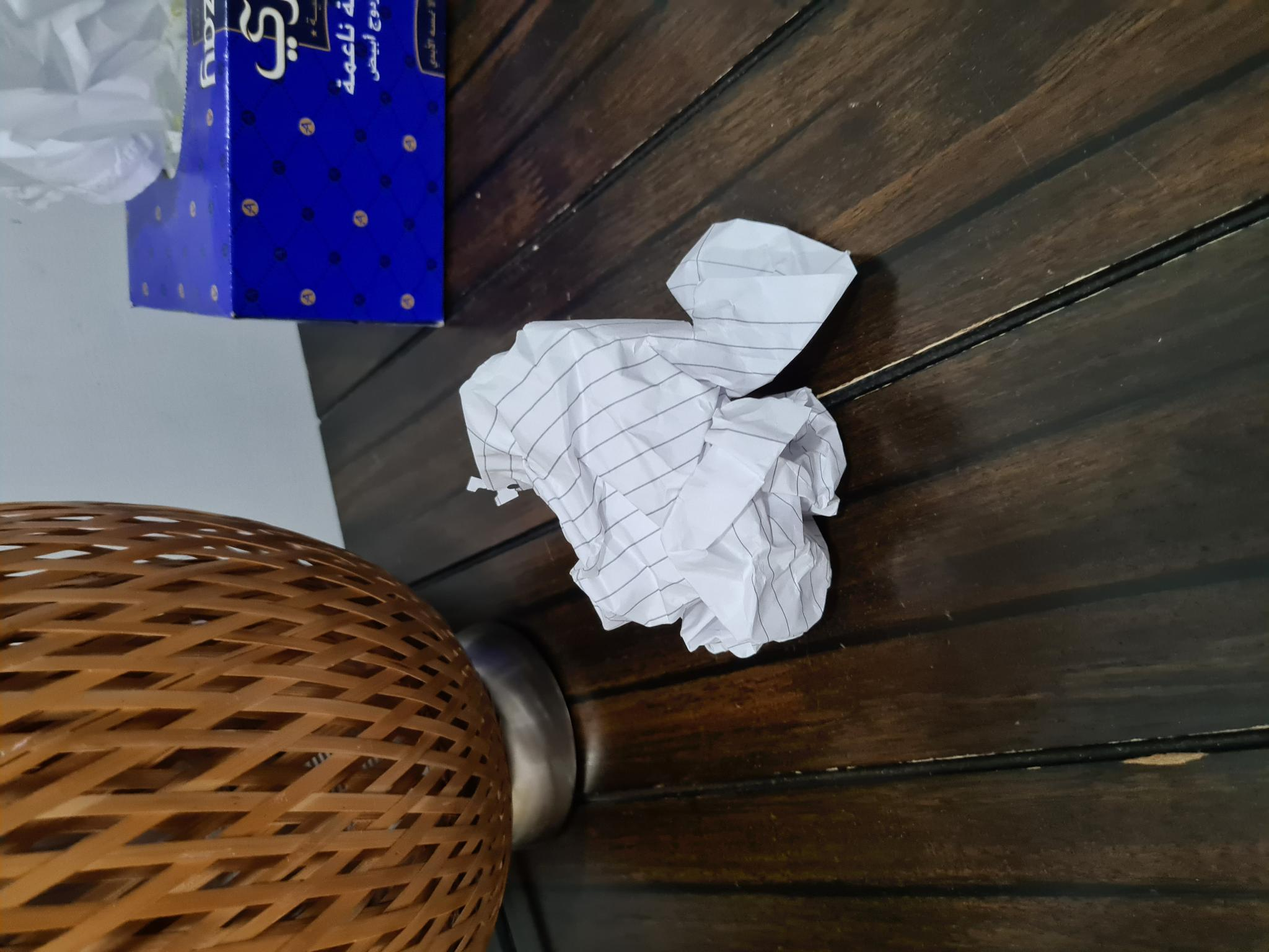Kertas: (276, 464, 765, 857)
